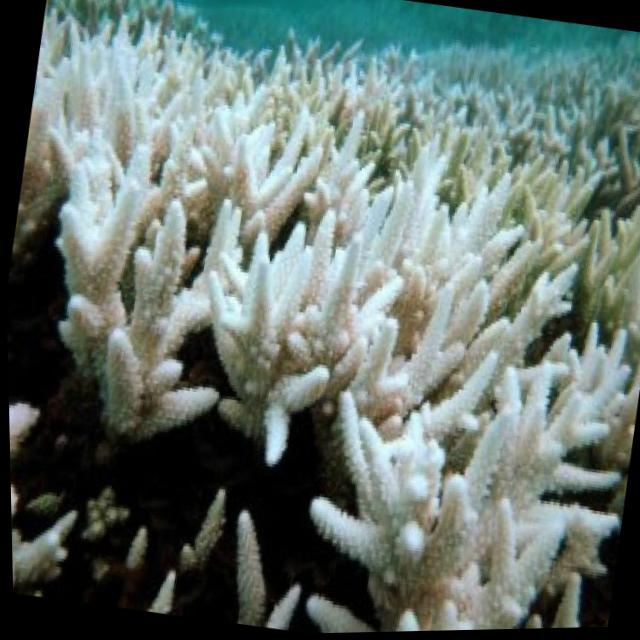Bleached Coral: (339, 364, 630, 634), (36, 93, 284, 383), (253, 56, 473, 238), (489, 104, 640, 325), (365, 187, 521, 392), (227, 217, 376, 425)
